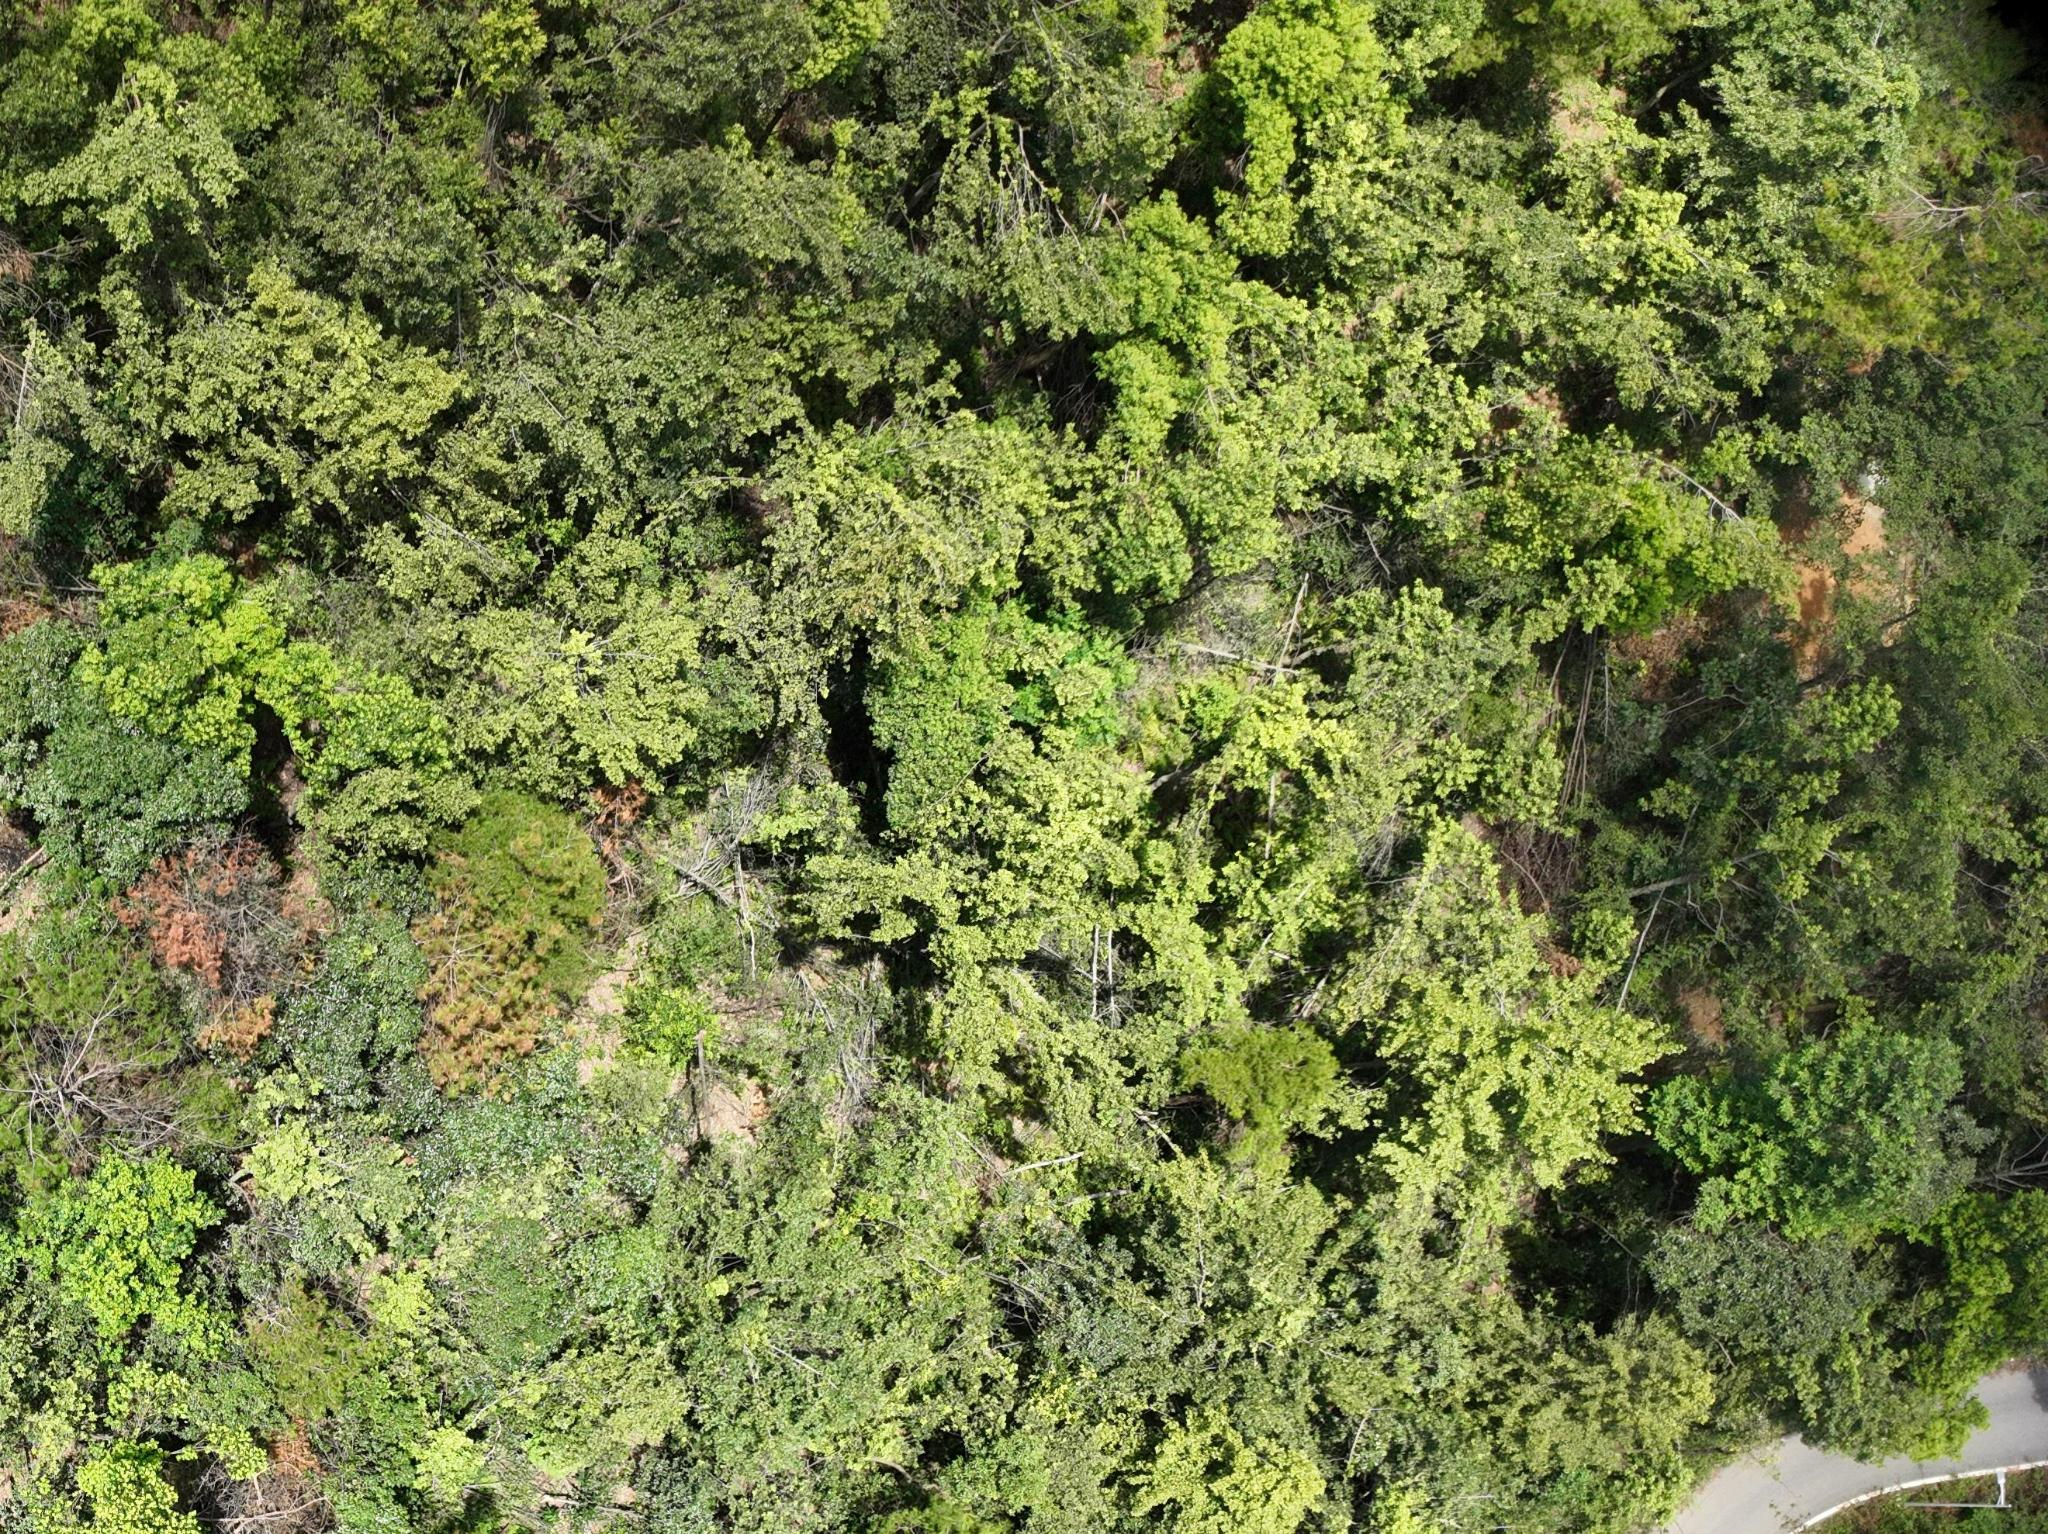heavy: (110, 833, 317, 1055), (409, 852, 566, 1102), (271, 1418, 321, 1479)
